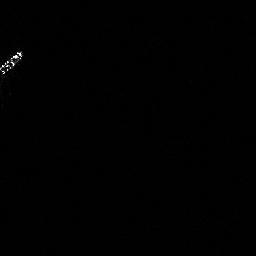ship: (1, 46, 26, 80)
